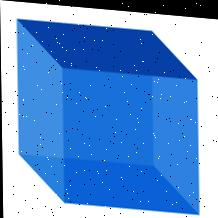cube: (16, 16, 199, 210)
